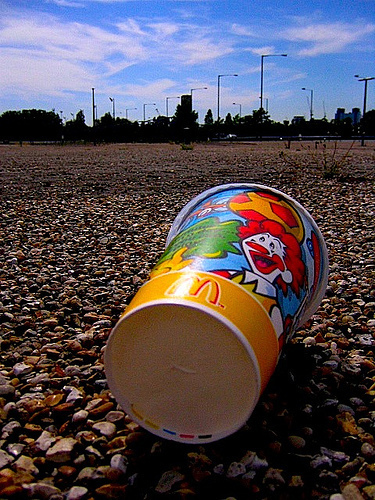litter: (101, 178, 328, 445)
